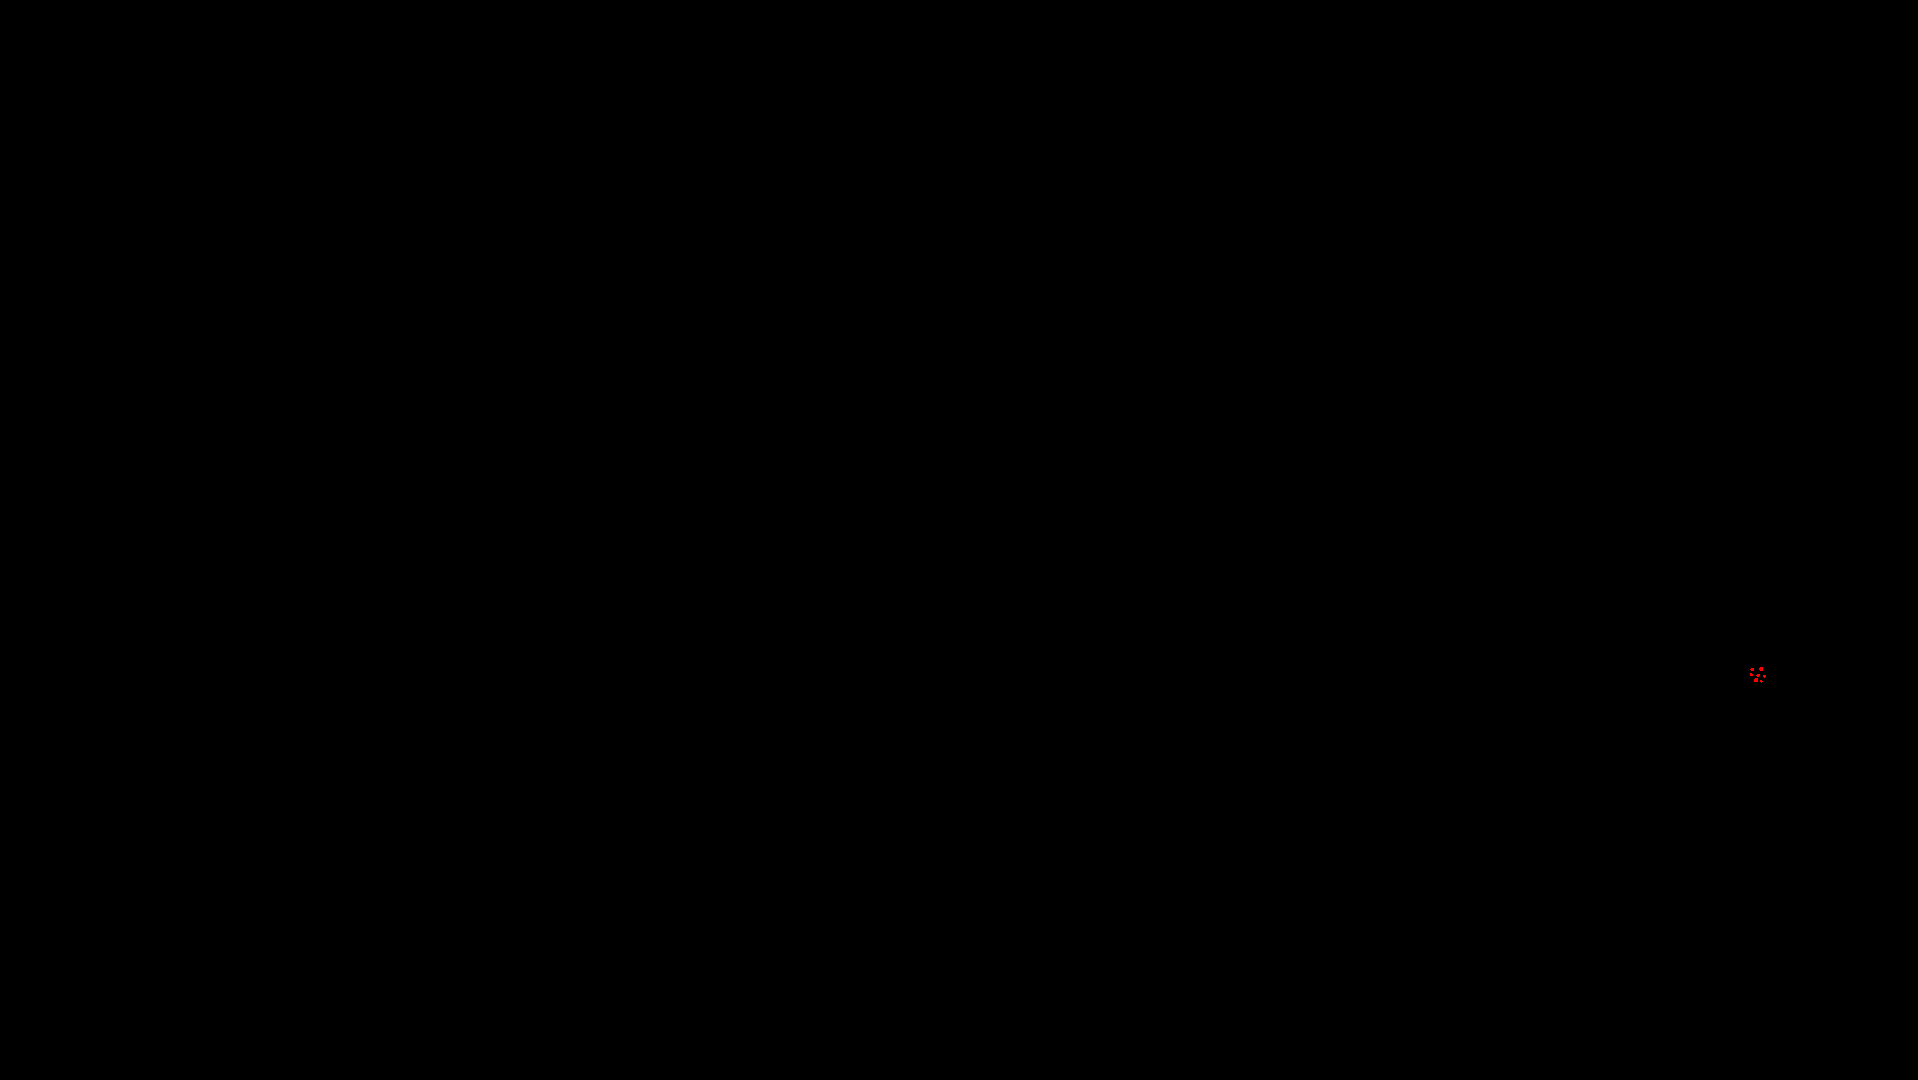Target: (1759, 666, 1763, 670), (1763, 674, 1767, 678), (1755, 678, 1759, 682), (1749, 668, 1755, 670), (1749, 673, 1753, 676), (1756, 674, 1760, 677), (1760, 680, 1763, 684)
